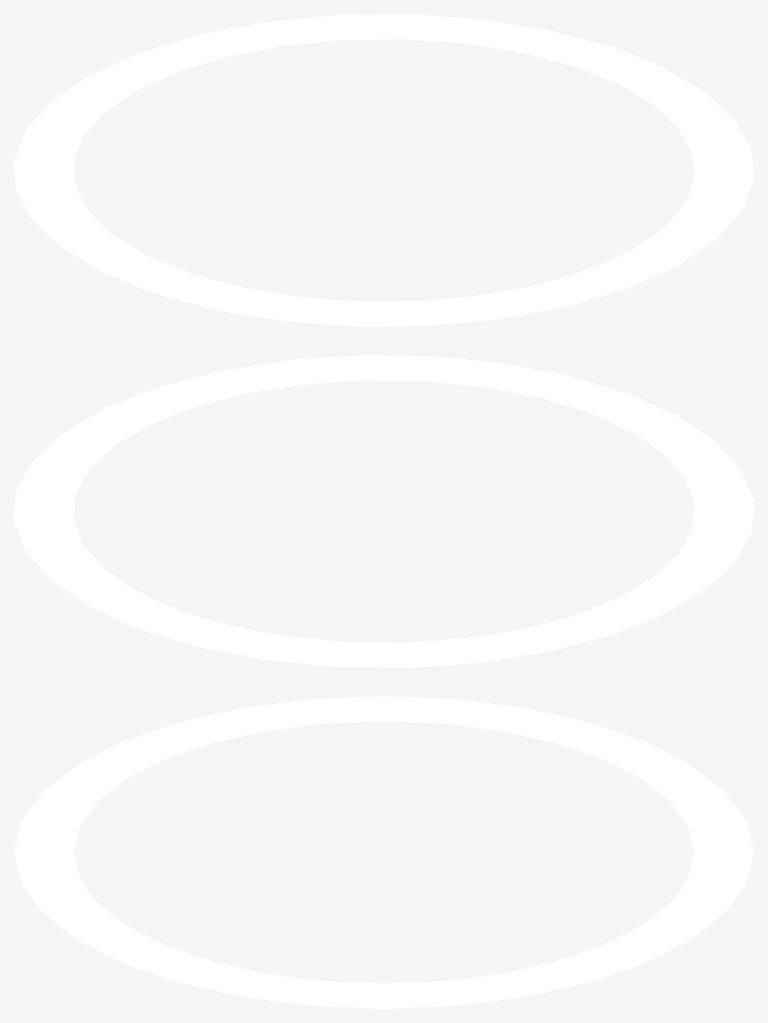
The model's file is bv_ring_free.glb.
3 views of the same model, one above another, from view 1: azimuth 30°, elevation 25°; view 2: azimuth 150°, elevation 25°; view 3: azimuth 270°, elevation 25° (orthographic).
Parts seen in each view (by area): view 1: ring_free; view 2: ring_free; view 3: ring_free.
Part boxes in pixels (left/top/right/bottom): ring_free: left=14, top=14, right=753, bottom=326; ring_free: left=14, top=355, right=753, bottom=667; ring_free: left=14, top=696, right=753, bottom=1008.
Size of the model in its own units: 1.24 by 0 by 1.24.
